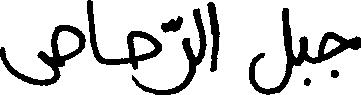X: (0, 20, 83, 90), (248, 3, 291, 94), (128, 20, 161, 94), (319, 27, 360, 82), (169, 4, 194, 94), (208, 0, 218, 76), (88, 0, 98, 66), (196, 3, 204, 70), (301, 31, 307, 90)
